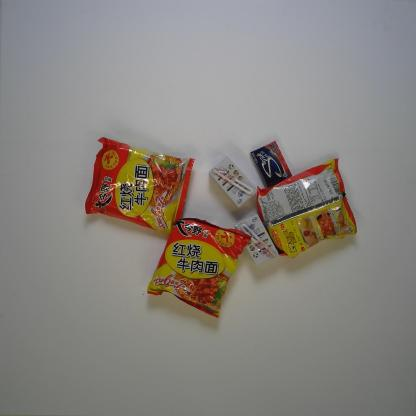Gum: (250, 139, 292, 189)
Instant Noodles: (84, 136, 196, 234), (146, 217, 252, 319), (256, 157, 358, 259)
Milk: (208, 156, 259, 209), (234, 213, 279, 267)
